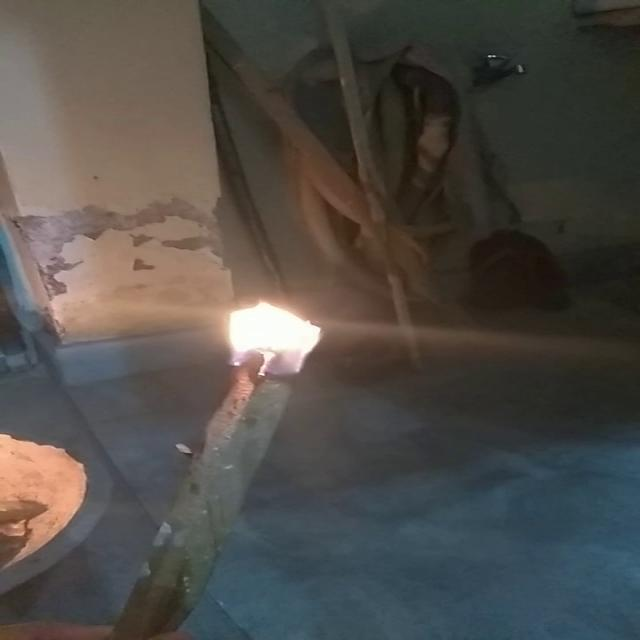Fire: (201, 298, 322, 379)
